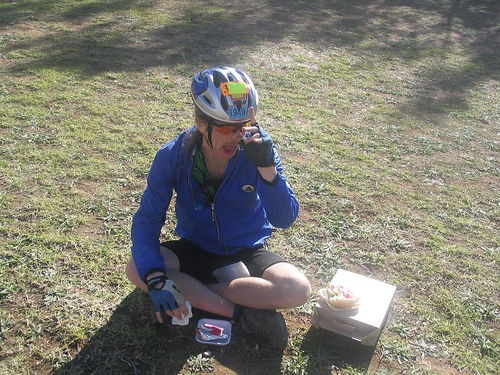head: (194, 104, 250, 159)
person: (125, 62, 310, 348)
